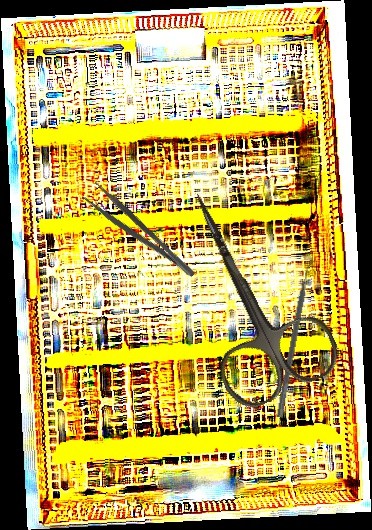Dressing Forceps: (81, 179, 198, 289)
Iris Scissors: (145, 167, 347, 417)
Spatula Surgical: (276, 258, 317, 419)
